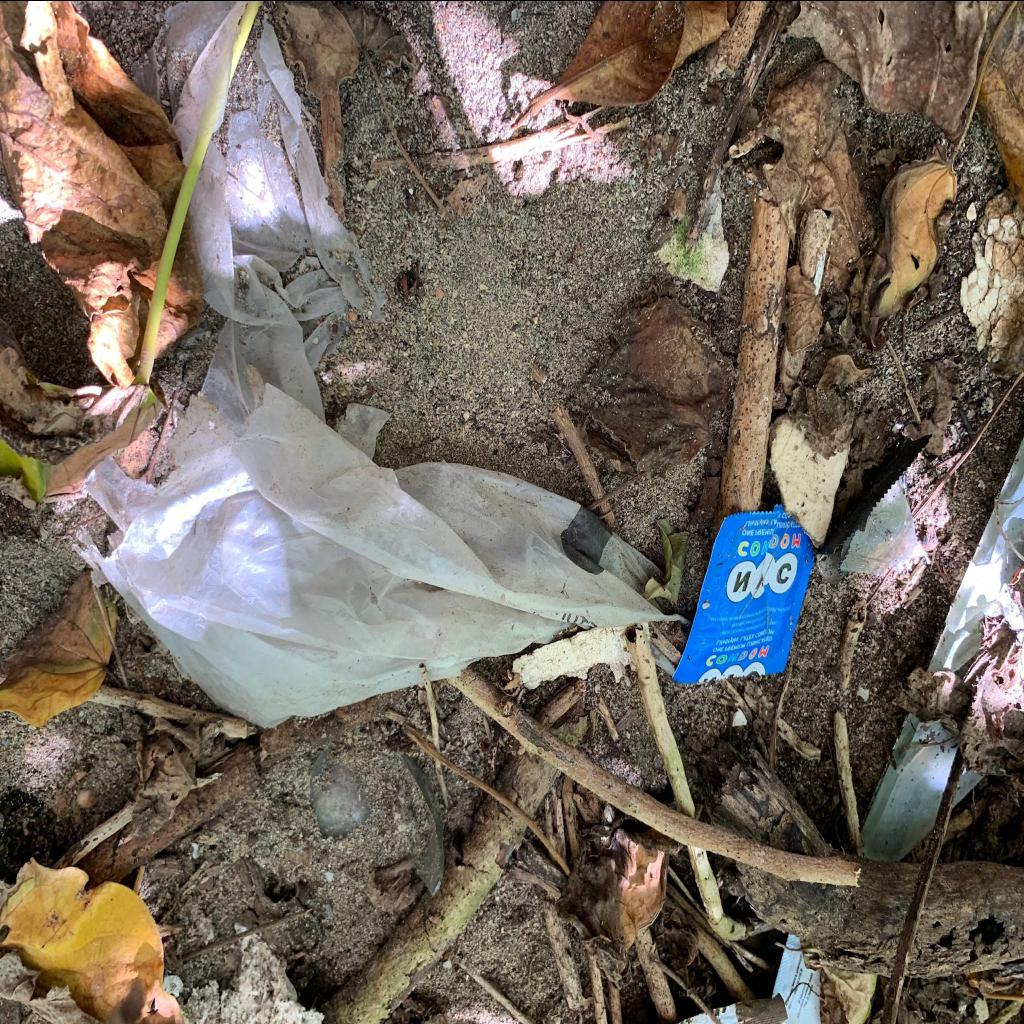Broken glass: (309, 744, 446, 896)
Other plastic: (674, 504, 814, 682), (817, 436, 929, 580), (774, 930, 820, 1022), (676, 995, 786, 1021)
Plastic film: (71, 0, 693, 728)
Styrofoam piece: (962, 193, 1022, 369), (513, 622, 633, 688)
Unlabeled litter: (861, 436, 1023, 860)
